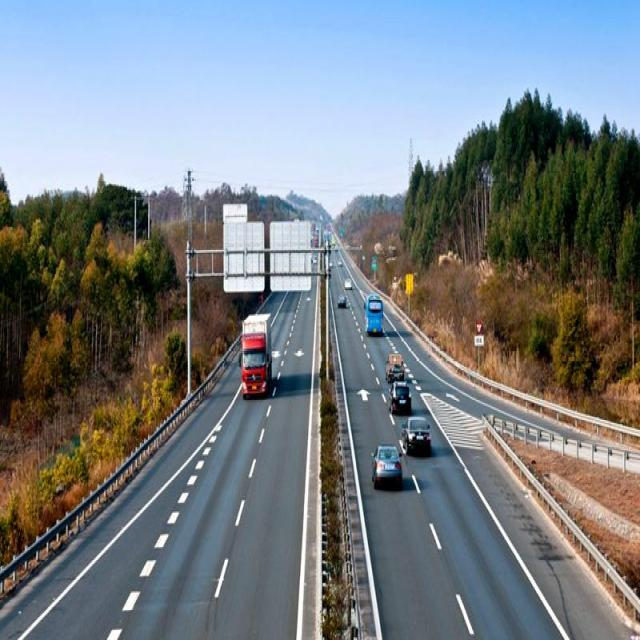point: (306, 196, 376, 290)
